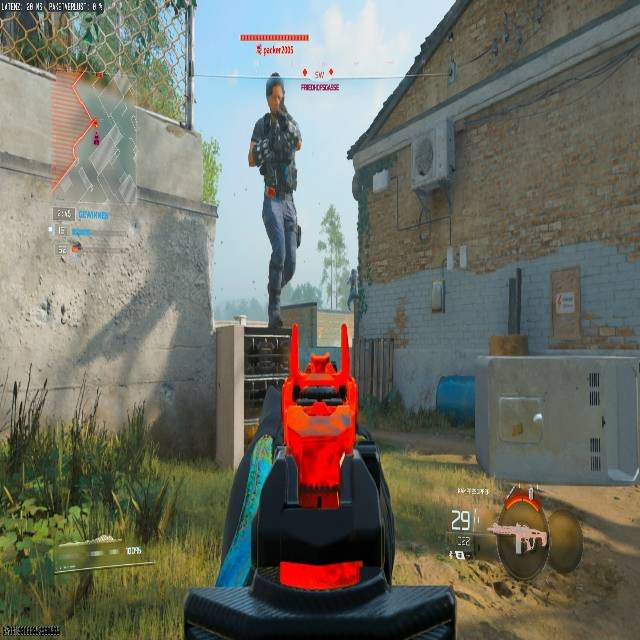head: (265, 76, 285, 112)
player: (248, 79, 302, 279)
